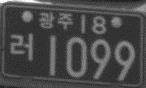0: (65, 35, 87, 78)
1: (48, 33, 57, 78), (79, 12, 87, 35)
8: (92, 14, 106, 35)
9: (90, 37, 112, 81), (114, 40, 136, 82)
광주_O: (38, 9, 74, 31)
러: (8, 31, 34, 62)
